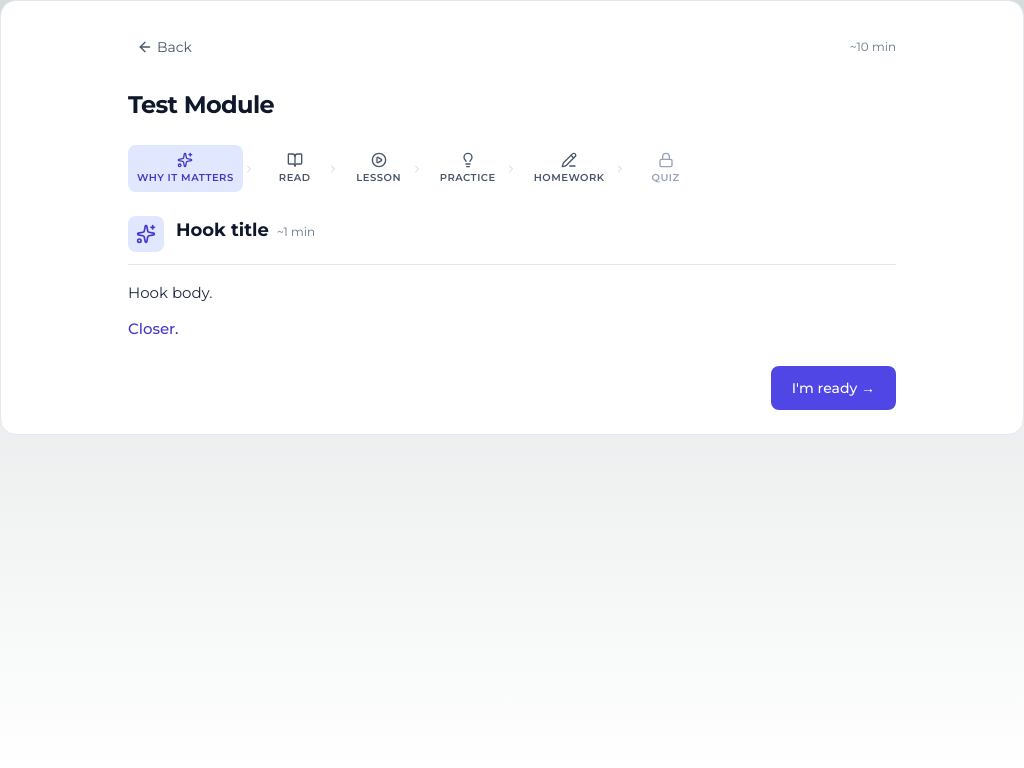
Test: ModuleStructure section persistence › shows a save-failure notice naming the section on a non-2xx status
This screenshot has width=1024, height=768.
Click the button "I'm ready →".
click(833, 388)  # box [771,366,896,410]
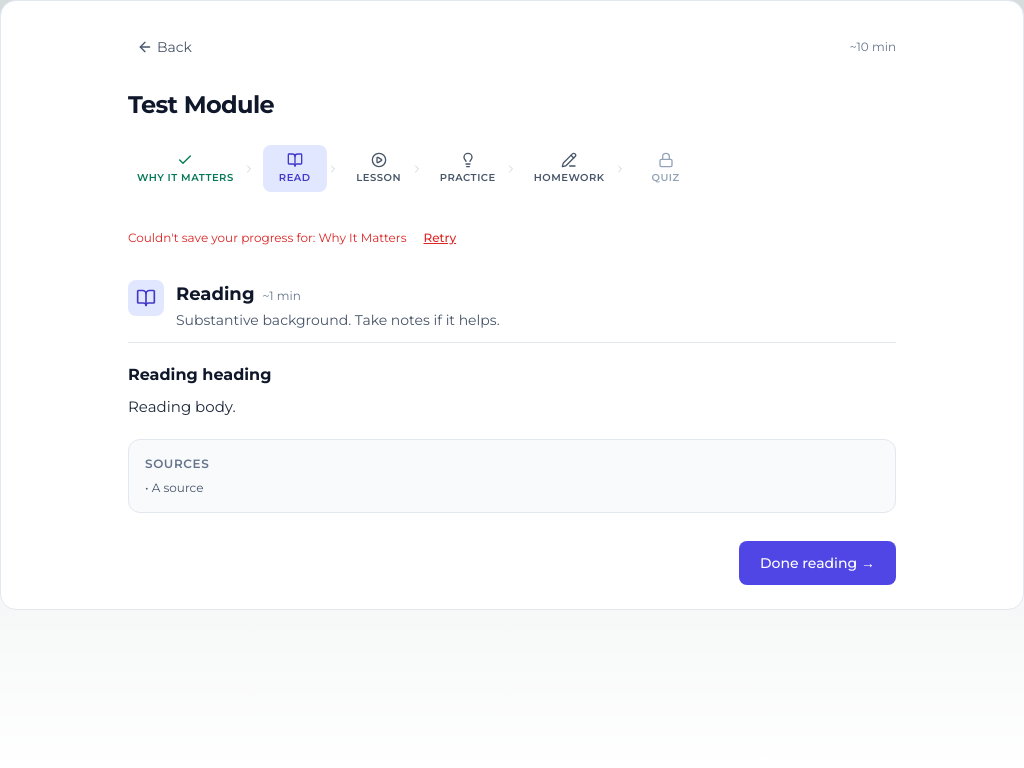
Result: the message shows "Couldn't save your progress for: Why It Matters" at [128,230,406,245]
